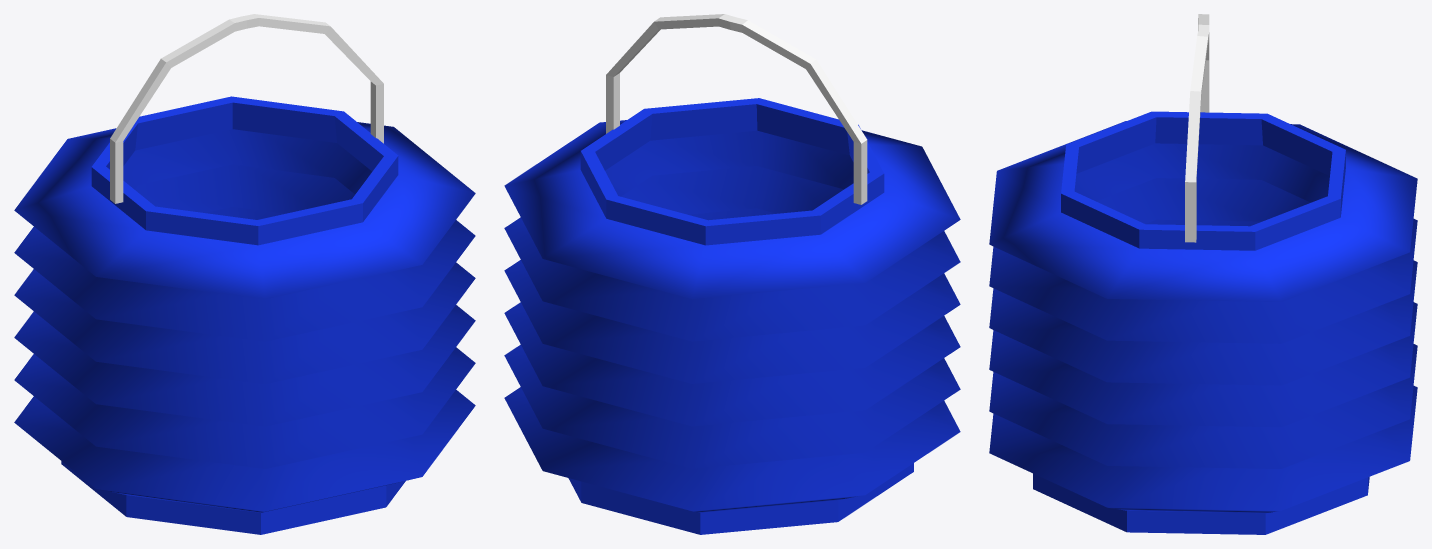
The model's file is Bucket.fbx.
The picture shows the model from 3 angles, left to right: view 1: azimuth 30°, elevation 25°; view 2: azimuth 150°, elevation 25°; view 3: azimuth 270°, elevation 25°; orthographic projection.
Parts seen in each view (by area): view 1: Cylinder001, Box001; view 2: Cylinder001, Box001; view 3: Cylinder001, Box001.
Part boxes in pixels (left/top/right/bottom): Cylinder001: left=14, top=96, right=475, bottom=534; Box001: left=110, top=14, right=383, bottom=203; Cylinder001: left=504, top=98, right=960, bottom=534; Box001: left=606, top=14, right=867, bottom=204; Cylinder001: left=989, top=111, right=1417, bottom=534; Box001: left=1185, top=14, right=1209, bottom=242.
Size of the model in its own units: 2.85 by 3.17 by 2.85.
